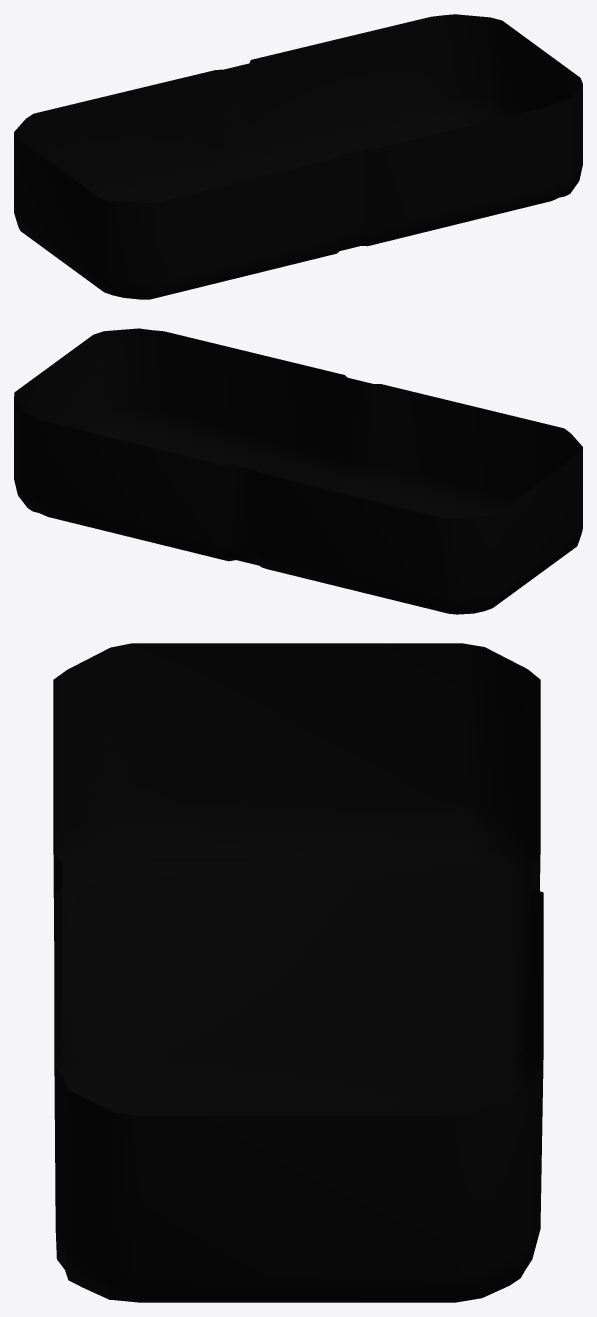
Rendered from Gradient_Arena.fbx.
3 views of the same model, one above another, from view 1: azimuth 30°, elevation 25°; view 2: azimuth 150°, elevation 25°; view 3: azimuth 270°, elevation 25° (orthographic). The views are drawn at different scales.
Parts seen in each view (by area): view 1: Gradient_Arena; view 2: Gradient_Arena; view 3: Gradient_Arena.
Boxes of the visible parts, x1=… form: Gradient_Arena: x1=14, y1=14, x2=582, y2=299; Gradient_Arena: x1=14, y1=328, x2=582, y2=614; Gradient_Arena: x1=53, y1=643, x2=543, y2=1302.
Bounding box in the file's own units: 6110 × 1216 × 2679.
